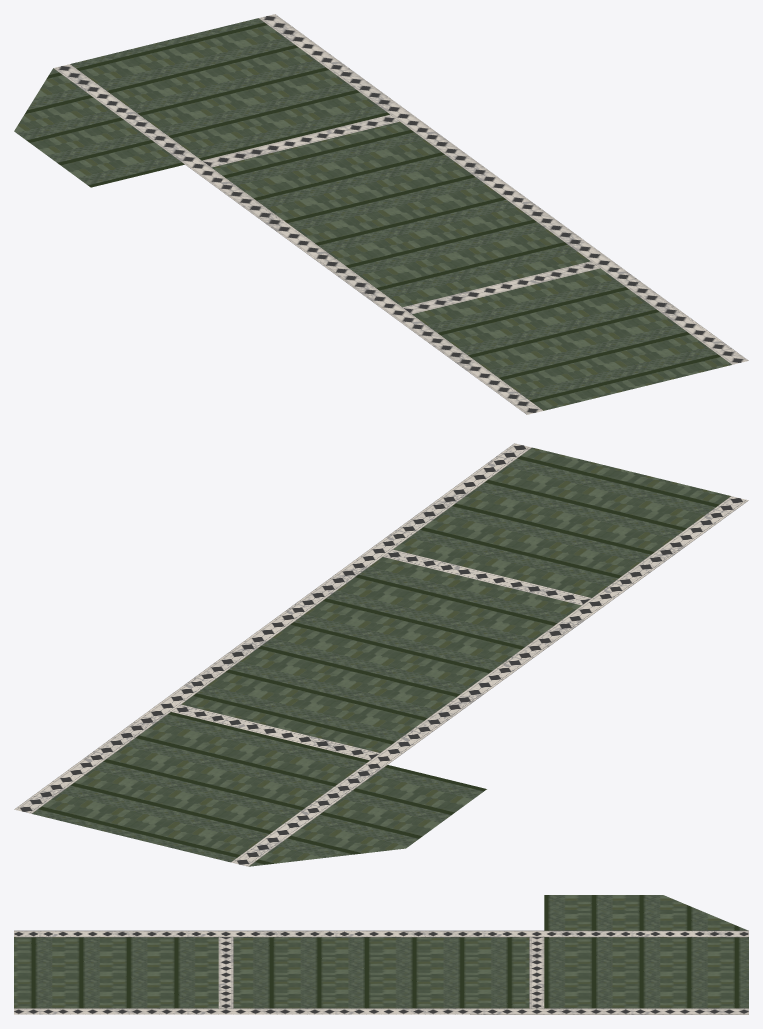
The model's file is MainFloor.fbx.
3 renders of one model, top to bottom at view 1: azimuth 30°, elevation 25°; view 2: azimuth 150°, elevation 25°; view 3: azimuth 270°, elevation 25°, orthographic. The views are drawn at different scales.
Parts seen in each view (by area): view 1: Cylinder.008; view 2: Cylinder.008; view 3: Cylinder.008.
Boxes of the visible parts, x1=… form: Cylinder.008: x1=14, y1=14, x2=748, y2=414; Cylinder.008: x1=14, y1=443, x2=748, y2=866; Cylinder.008: x1=14, y1=895, x2=748, y2=1014.
Size of the model in its own units: 7016 by 0.00313 by 18212.
